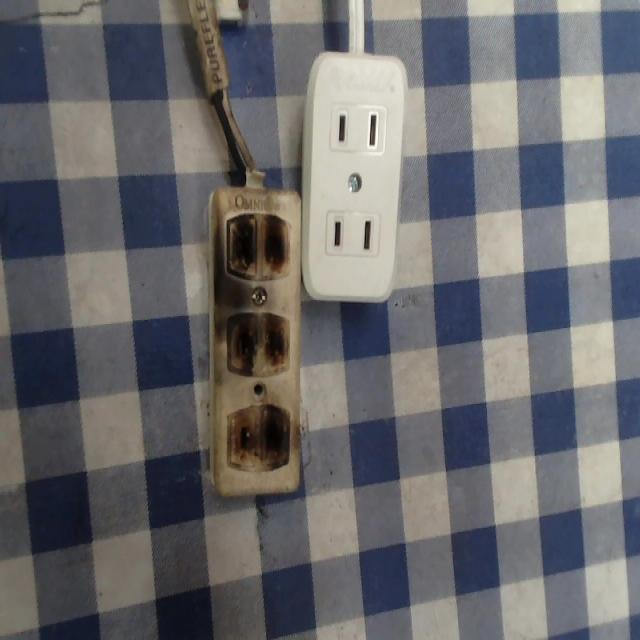-: (221, 396, 293, 479), (221, 209, 294, 287), (220, 306, 295, 378)
